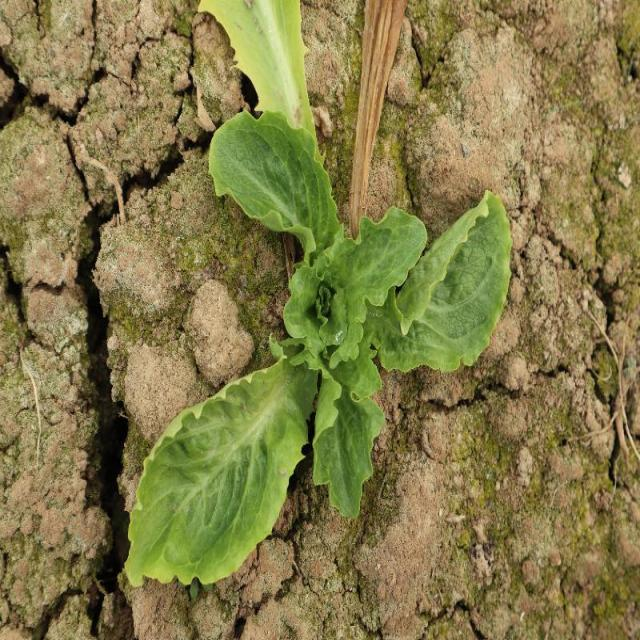crop: (127, 103, 516, 588)
